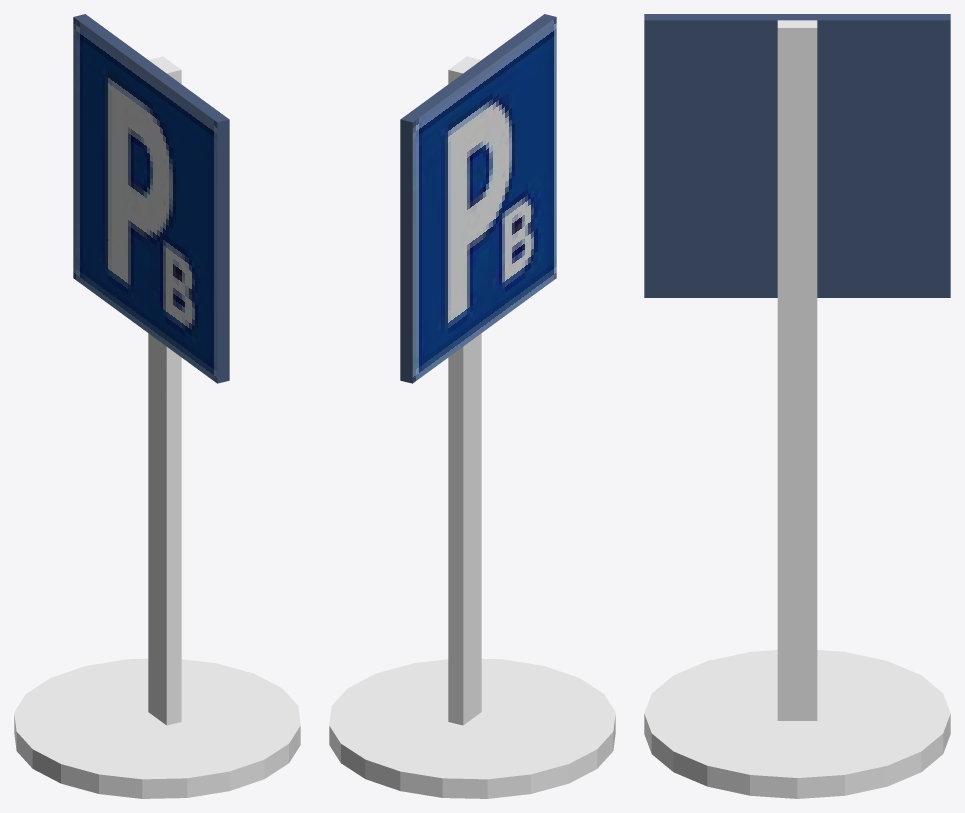
Rendered from SignParkingB.dae.
3 renders of one model, left to right at view 1: azimuth 30°, elevation 25°; view 2: azimuth 150°, elevation 25°; view 3: azimuth 270°, elevation 25°, orthographic. The views are drawn at different scales.
Visible parts, largest first — view 1: SignParkingB; view 2: SignParkingB; view 3: SignParkingB.
Boxes of the visible parts, box(x1,y1,x2,y2) form: SignParkingB: box(14, 14, 300, 798); SignParkingB: box(329, 14, 615, 798); SignParkingB: box(644, 14, 950, 798).
Bounding box in the file's own units: 0.07 × 0.07 × 0.18.
